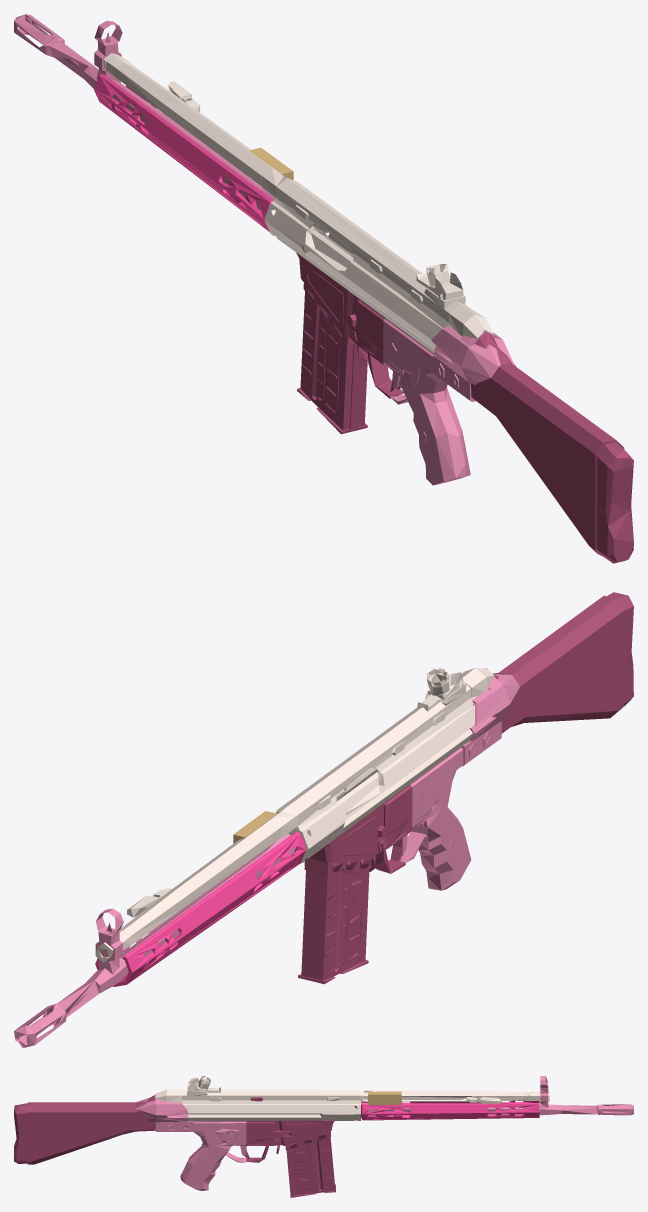
The model's file is BattleRifle_G3.obj.
3 renders of one model, top to bottom at view 1: azimuth 30°, elevation 25°; view 2: azimuth 150°, elevation 25°; view 3: azimuth 270°, elevation 25°, orthographic. The views are drawn at different scales.
Visible parts, largest first — view 1: Panel, Grip, Body, Mag, Accent; view 2: Panel, Body, Grip, Mag, Accent; view 3: Panel, Grip, Body, Mag, Accent, Bolt.
Boxes of the visible parts, x1=… form: Panel: x1=94, y1=49, x2=493, y2=353; Grip: x1=471, y1=332, x2=633, y2=563; Body: x1=14, y1=14, x2=514, y2=485; Mag: x1=296, y1=252, x2=403, y2=434; Accent: x1=94, y1=73, x2=273, y2=231; Panel: x1=95, y1=668, x2=494, y2=962; Body: x1=14, y1=668, x2=519, y2=1047; Grip: x1=492, y1=592, x2=633, y2=733; Mag: x1=298, y1=784, x2=412, y2=984; Accent: x1=95, y1=831, x2=306, y2=986; Panel: x1=155, y1=1076, x2=549, y2=1120; Grip: x1=14, y1=1095, x2=155, y2=1164; Body: x1=135, y1=1076, x2=633, y2=1190; Mag: x1=246, y1=1097, x2=357, y2=1197; Accent: x1=361, y1=1100, x2=539, y2=1120; Bolt: x1=368, y1=1091, x2=401, y2=1104.
Bounding box in the file's own units: 0.1739 × 0.7767 × 3.7.
